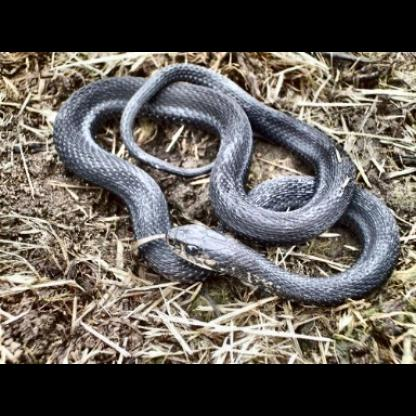Snake: (52, 63, 402, 309)
